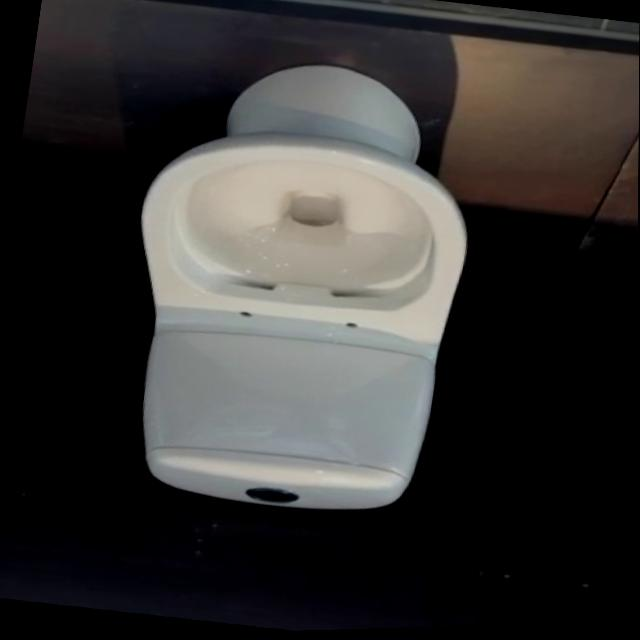toilet: (100, 42, 494, 536)
